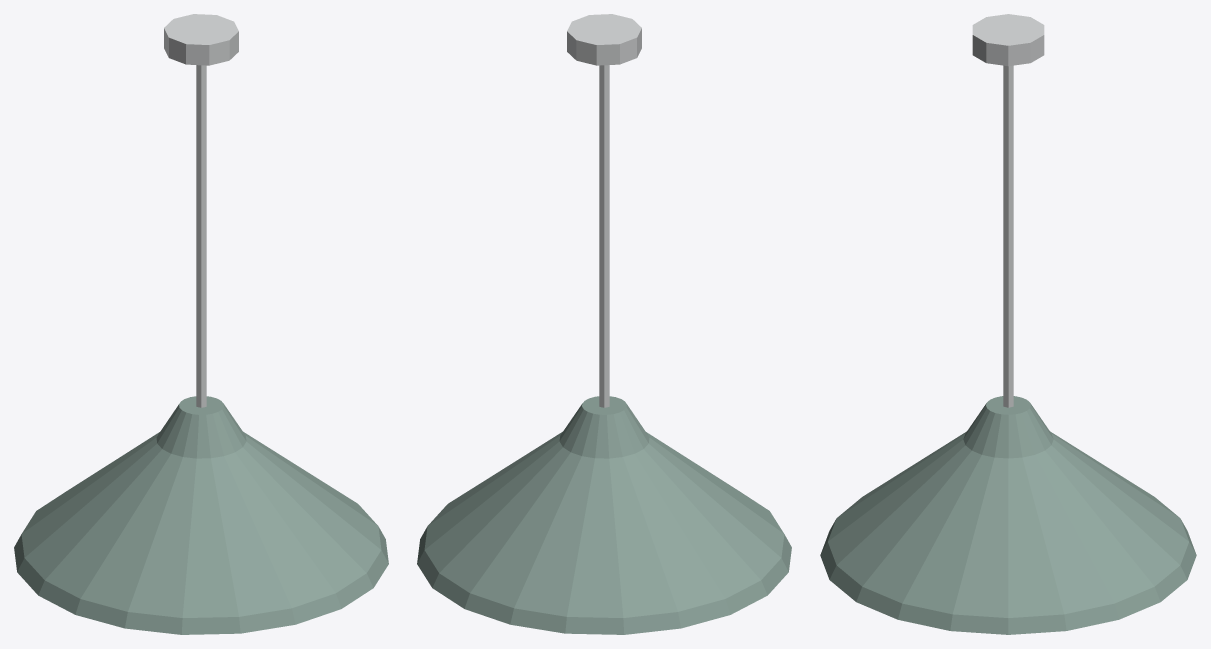
File: pendant_lamp.glb
The picture shows the model from 3 angles, left to right: view 1: azimuth 30°, elevation 25°; view 2: azimuth 150°, elevation 25°; view 3: azimuth 270°, elevation 25°; orthographic projection.
Visible parts, largest first — view 1: pendant_lamp_frame, pendant_lamp_galv; view 2: pendant_lamp_frame, pendant_lamp_galv; view 3: pendant_lamp_frame, pendant_lamp_galv.
Boxes of the visible parts, x1,y1,x2,y2 form: pendant_lamp_frame: [14, 396, 388, 634]; pendant_lamp_galv: [164, 14, 238, 407]; pendant_lamp_frame: [417, 396, 791, 634]; pendant_lamp_galv: [567, 14, 641, 407]; pendant_lamp_frame: [820, 396, 1196, 634]; pendant_lamp_galv: [972, 14, 1044, 407].
Size of the model in its own units: 0.5 by 0.78 by 0.5.
